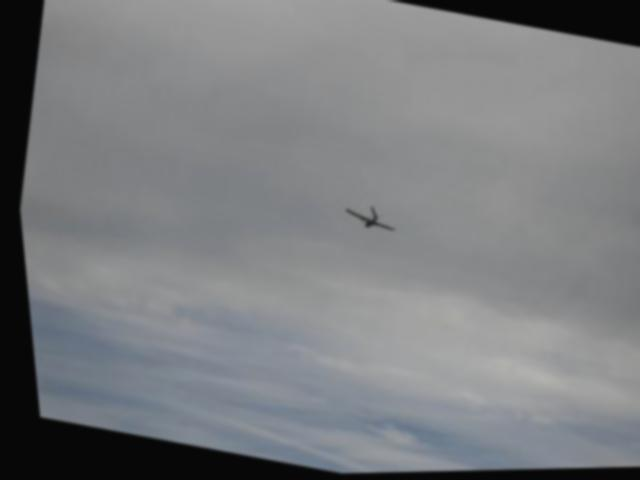uav: (325, 191, 405, 252)
